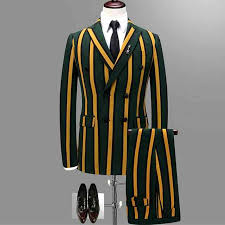striped: (57, 18, 186, 223)
